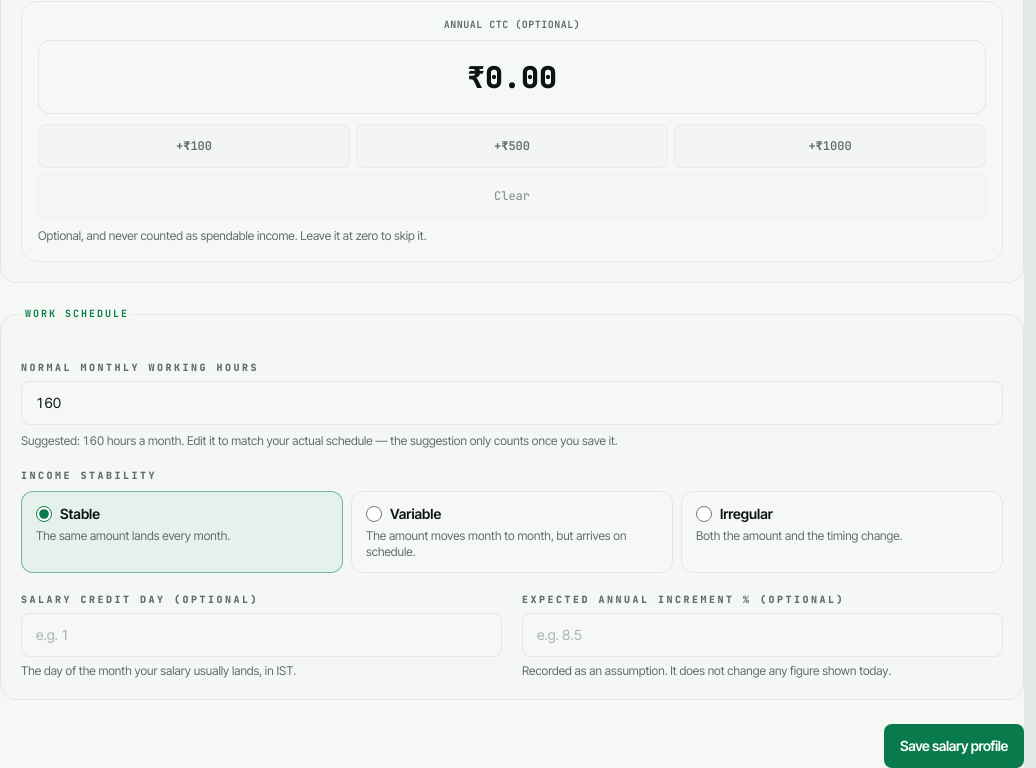
Scenario: SalaryProfileForm setup state › blocks submission and moves focus to the salary field when it is empty
(page scrolled)
Click the button "Save salary profile" at (954, 746), box top-left (884, 724), bottom-right (1024, 767)
(page scrolled)
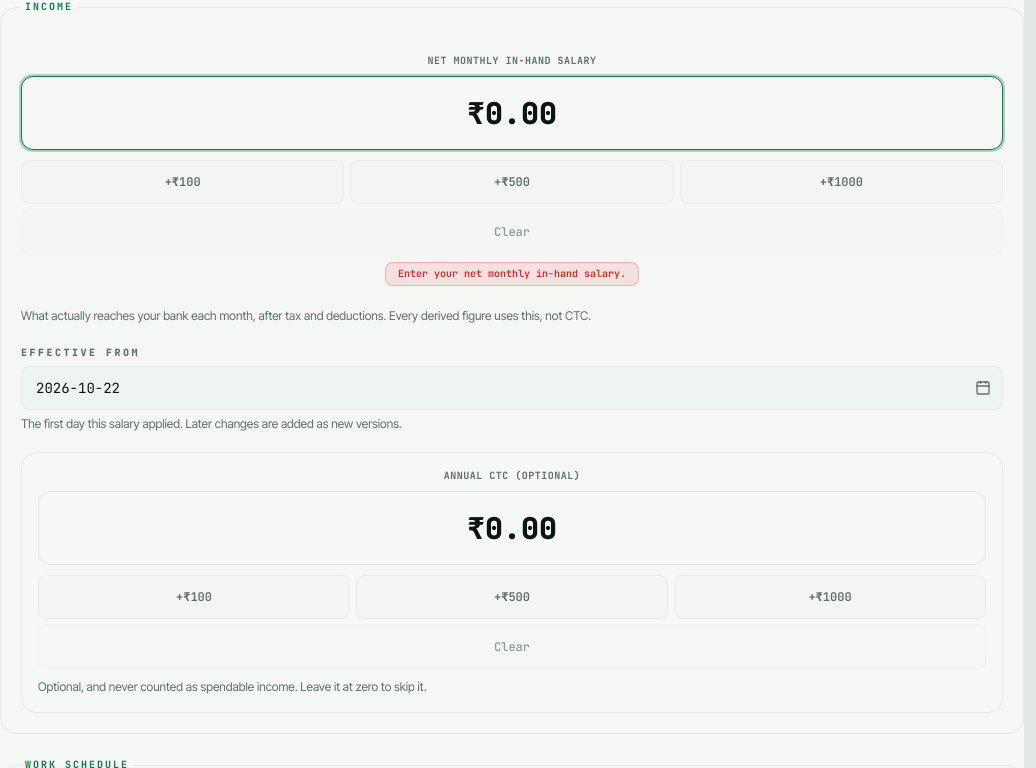
Expected: the text "Enter your net monthly in-hand salary." is shown, top-left (385, 262), bottom-right (639, 286)
